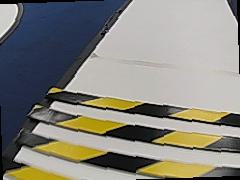bump: (8, 85, 239, 179)
